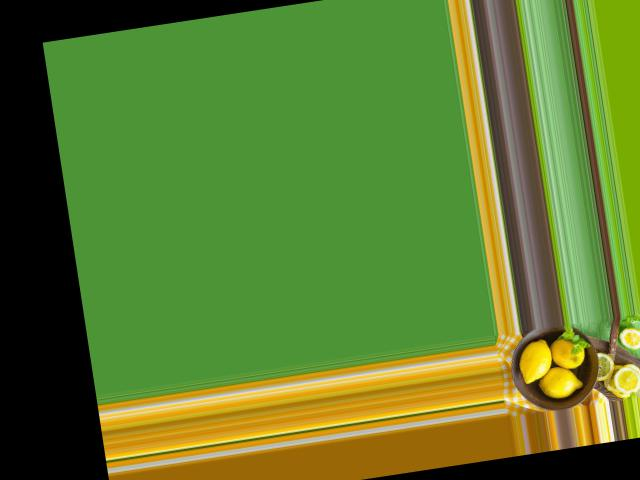lemon: (510, 333, 559, 387)
